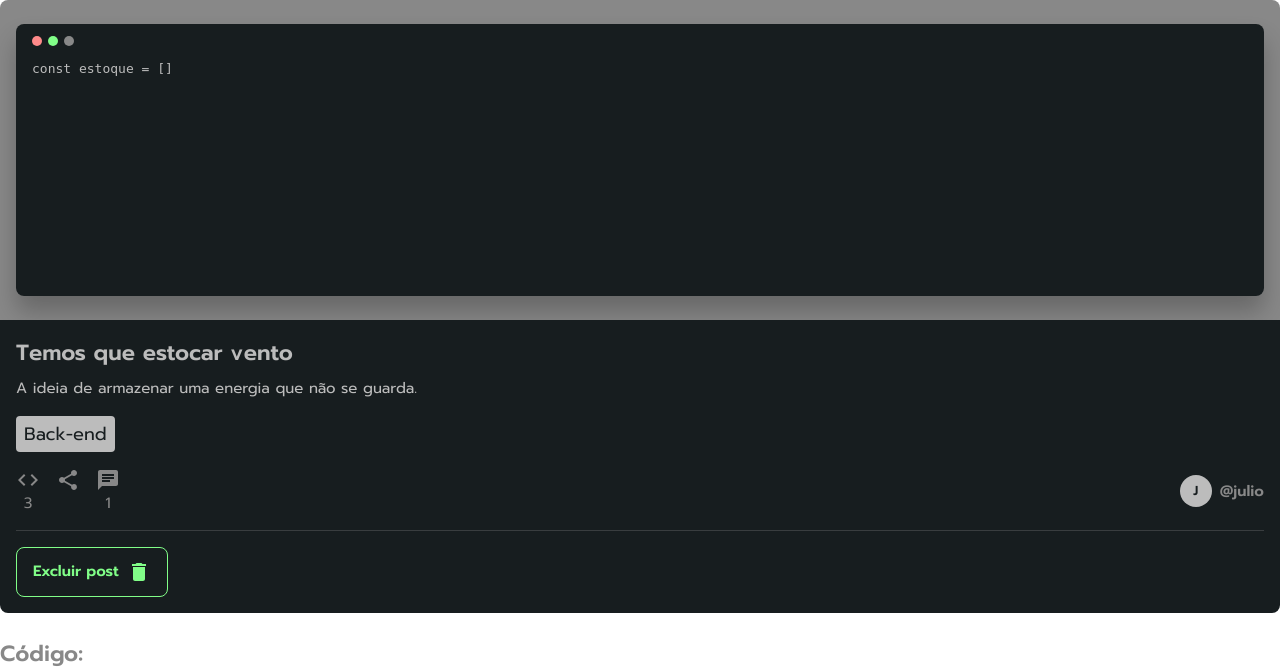
Scenario: PostDetail › shows the error when the deletion fails
Click the button "Excluir post" at point(92, 572), box [16, 547, 168, 597]
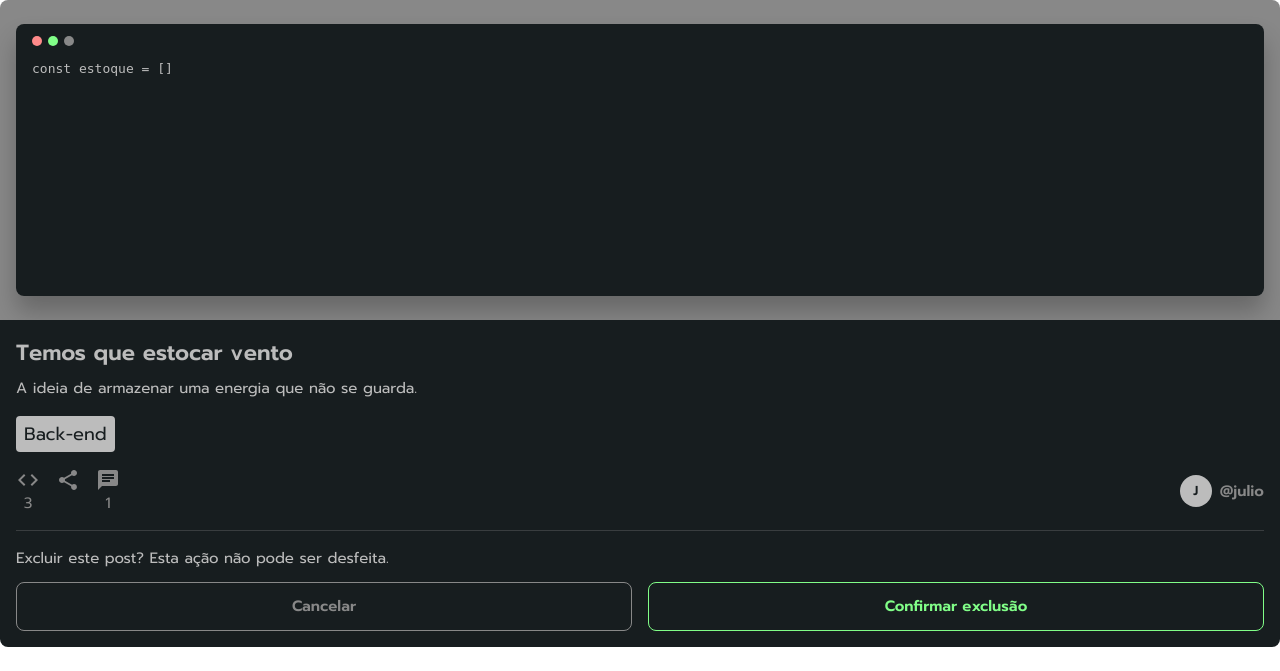
Click the button "Confirmar exclusão" at point(956, 606), box [648, 582, 1264, 631]
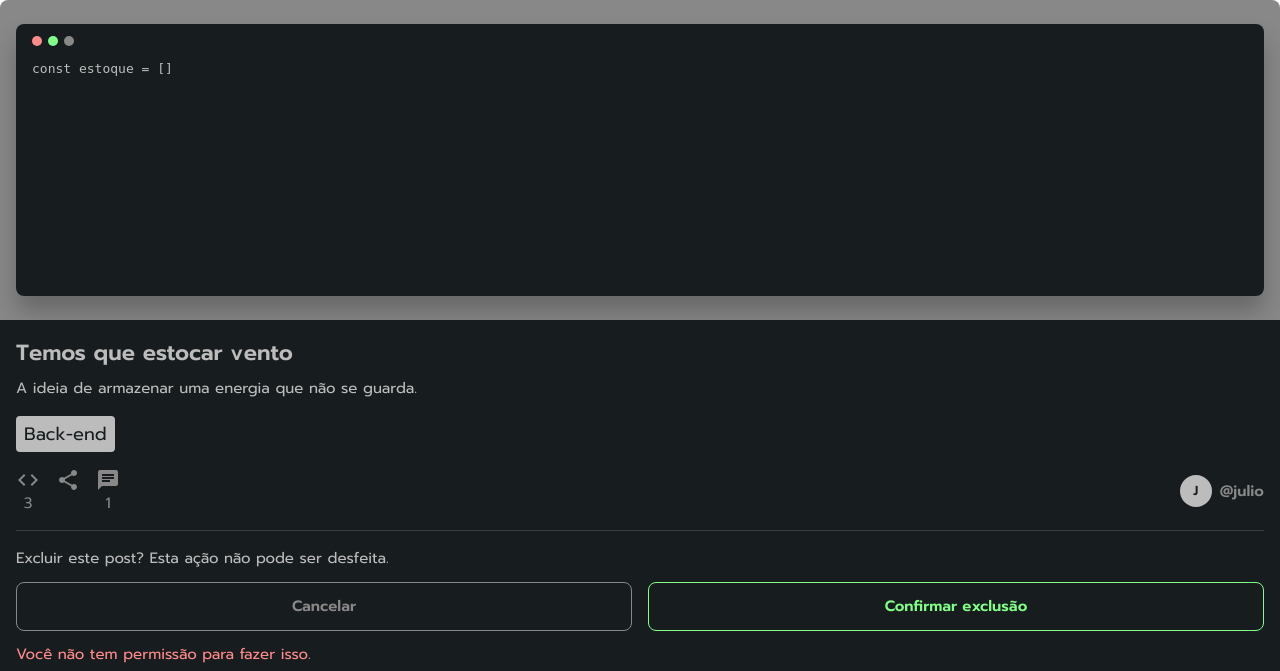
Check: the message shows "Você não tem permissão", box [16, 643, 311, 665]
